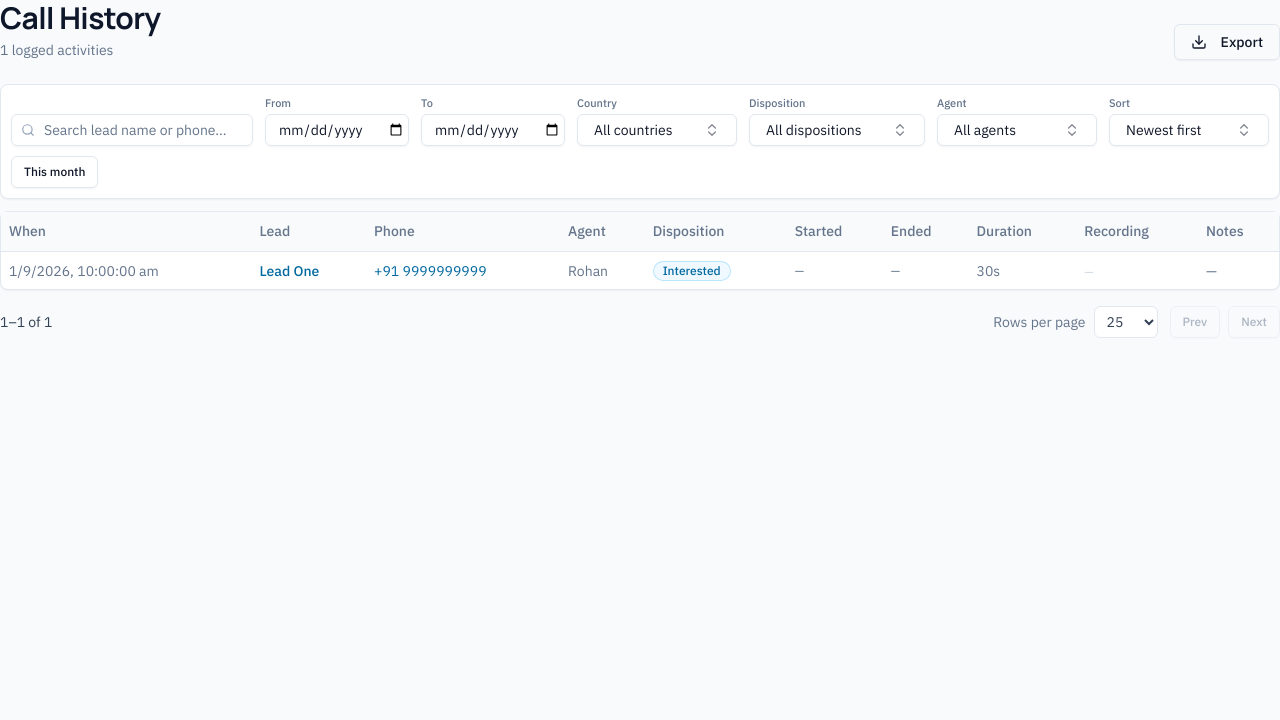
Test: CallHistory filters › opens lead 360 when phone is clicked
The image size is (1280, 720).
Click the button with test id "call-lead-phone-c1": [430, 270] box [374,260,486,280]
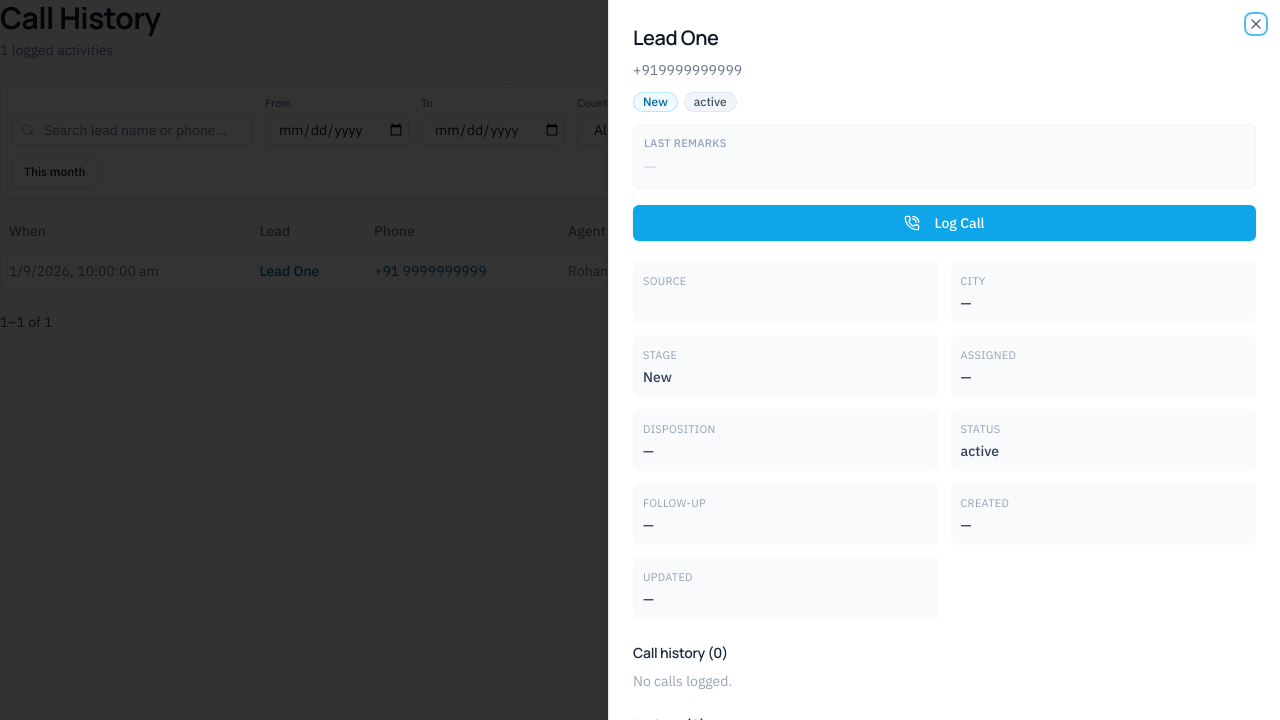
Check: the dialog with test id "lead-360" is shown, box [608,0,1279,719]
